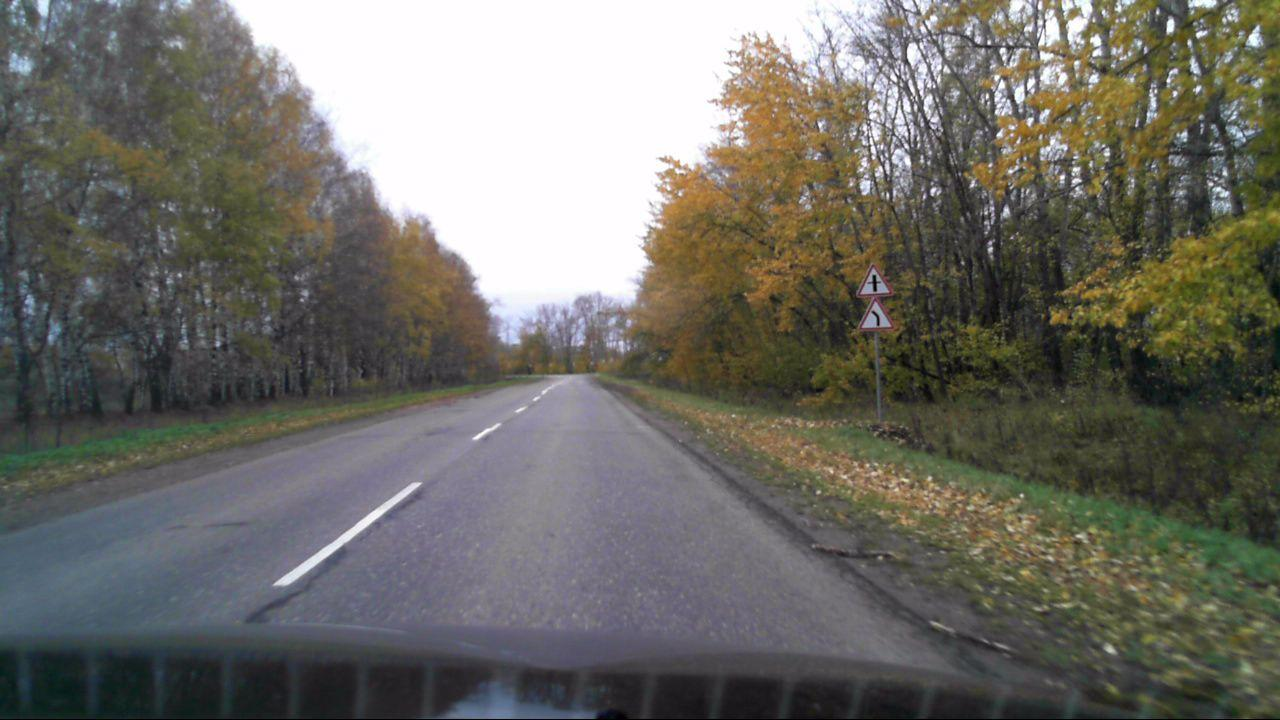1_11_1: (859, 299, 893, 330)
2_3_1: (856, 264, 893, 298)
